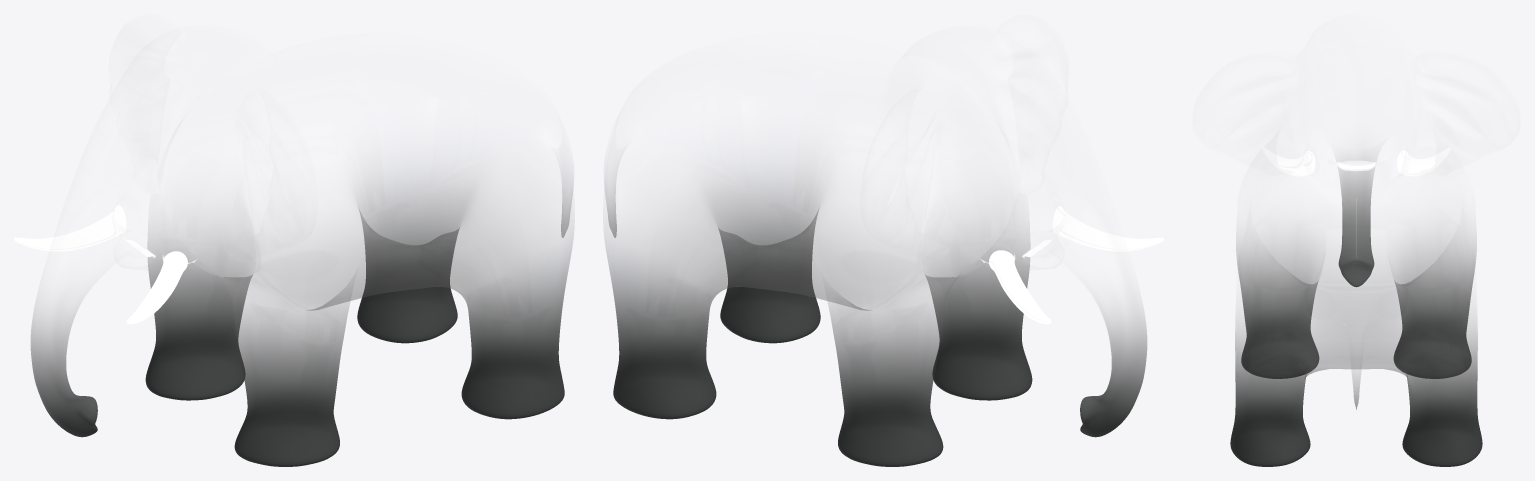
File: elephant.glb
3 views of the same model, side by side, from view 1: azimuth 30°, elevation 25°; view 2: azimuth 150°, elevation 25°; view 3: azimuth 270°, elevation 25° (orthographic). The views are drawn at different scales.
Parts seen in each view (by area): view 1: ele.耳朵.005; view 2: ele.耳朵.005; view 3: ele.耳朵.005.
Boxes of the visible parts, x1,y1,x2,y2 form: ele.耳朵.005: (14, 150, 574, 466); ele.耳朵.005: (603, 150, 1163, 466); ele.耳朵.005: (1230, 145, 1482, 466).
Size of the model in its own units: 1336192 by 923798 by 850723.
2 materials, 1 textured.
